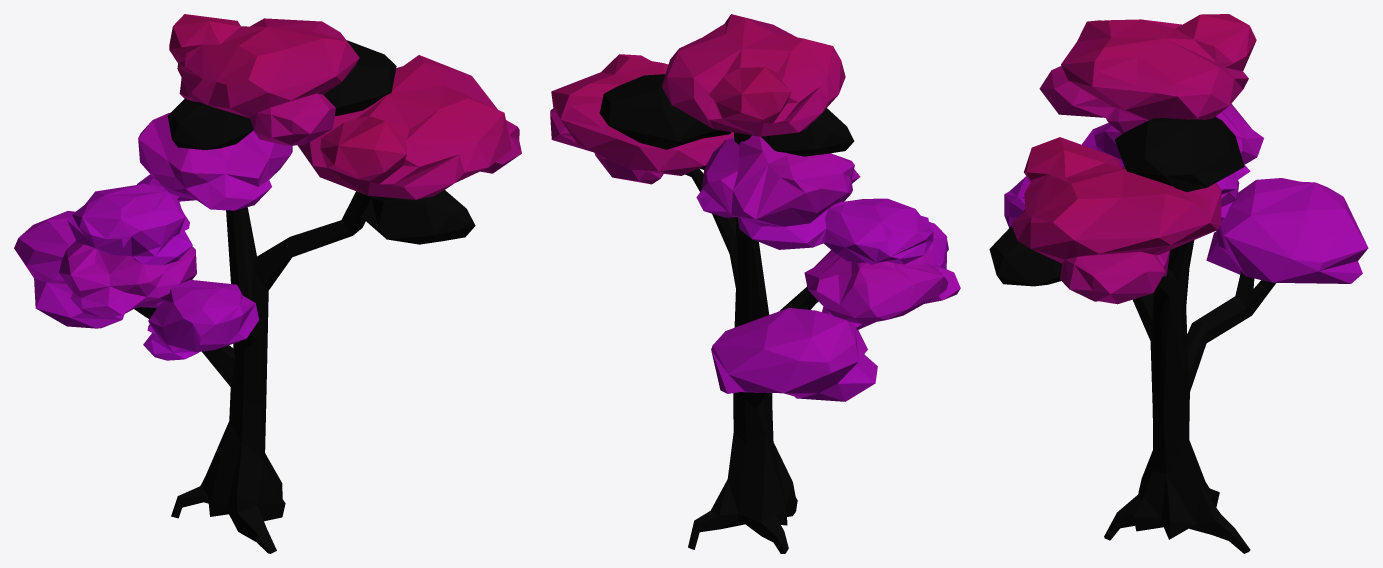
The model's file is SM_Env_Tree_Large_03.glb.
3 views of the same model, side by side, from view 1: azimuth 30°, elevation 25°; view 2: azimuth 150°, elevation 25°; view 3: azimuth 270°, elevation 25° (orthographic). The views are drawn at different scales.
Visible parts, largest first — view 1: SM_Env_Tree_Large_03; view 2: SM_Env_Tree_Large_03; view 3: SM_Env_Tree_Large_03.
Part boxes in pixels (x1,y1,x2,y2): SM_Env_Tree_Large_03: (14, 14, 521, 553); SM_Env_Tree_Large_03: (550, 14, 960, 553); SM_Env_Tree_Large_03: (989, 14, 1368, 553).
Size of the model in its own units: 13.6 by 15.17 by 10.08.
